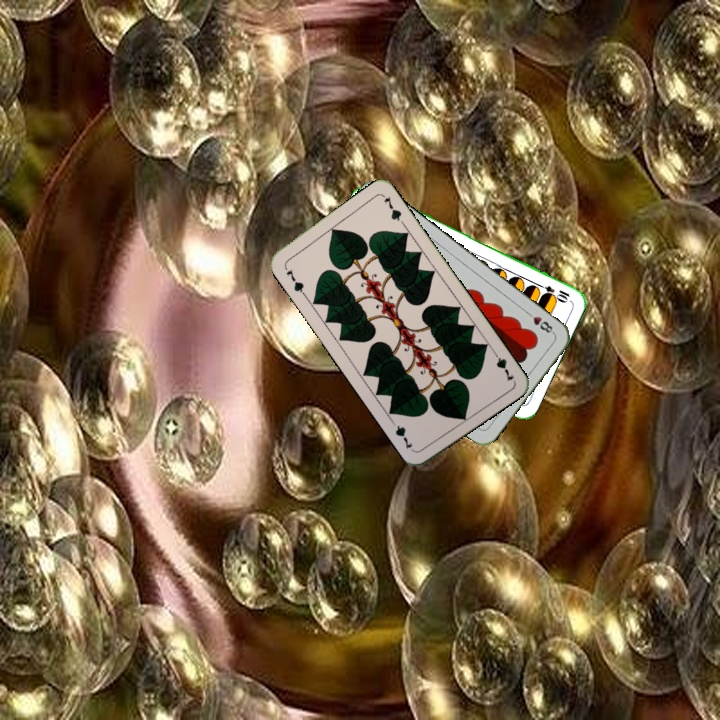E10: (533, 280, 572, 305)
G7: (488, 347, 517, 384), (280, 262, 308, 298)
H8: (522, 307, 557, 336)
